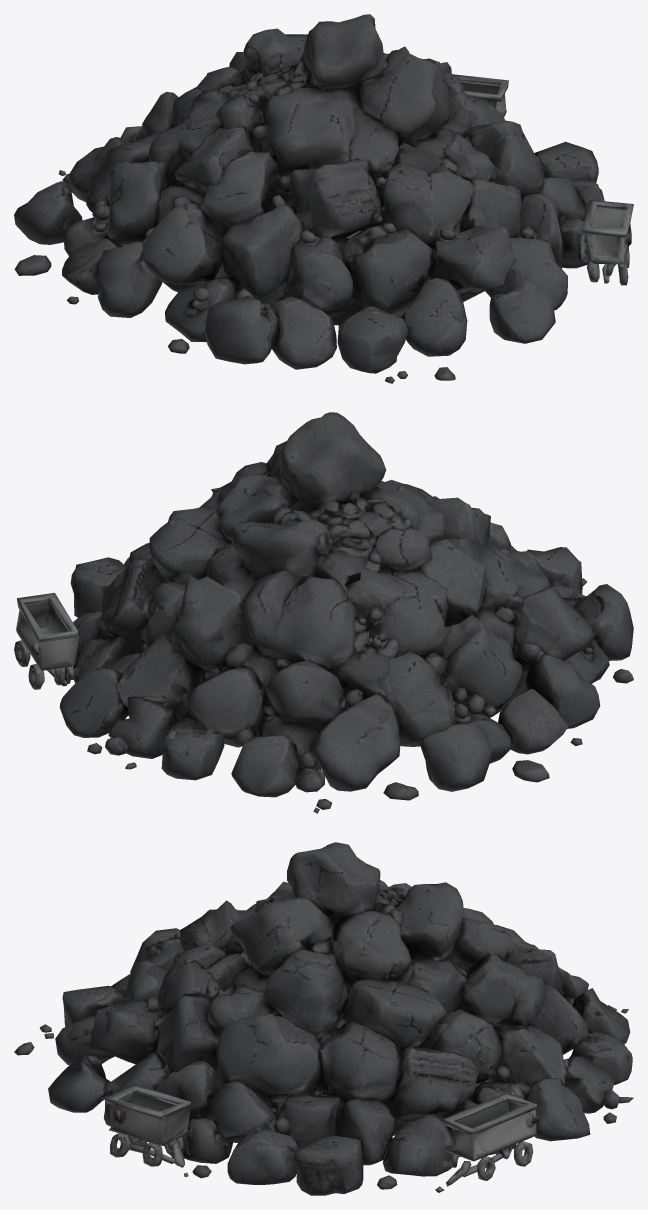
File: meitan.fbx
3 renders of one model, top to bottom at view 1: azimuth 30°, elevation 25°; view 2: azimuth 150°, elevation 25°; view 3: azimuth 270°, elevation 25°, orthographic. The views are drawn at different scales.
Parts seen in each view (by area): view 1: tripo_node_e313adbc; view 2: tripo_node_e313adbc; view 3: tripo_node_e313adbc.
Part boxes in pixels (x1=…): tripo_node_e313adbc: x1=14, y1=14, x2=633, y2=383; tripo_node_e313adbc: x1=14, y1=412, x2=633, y2=813; tripo_node_e313adbc: x1=14, y1=842, x2=633, y2=1195.
Size of the model in its own units: 95.3 by 100 by 42.07.
1 material, 1 textured.
